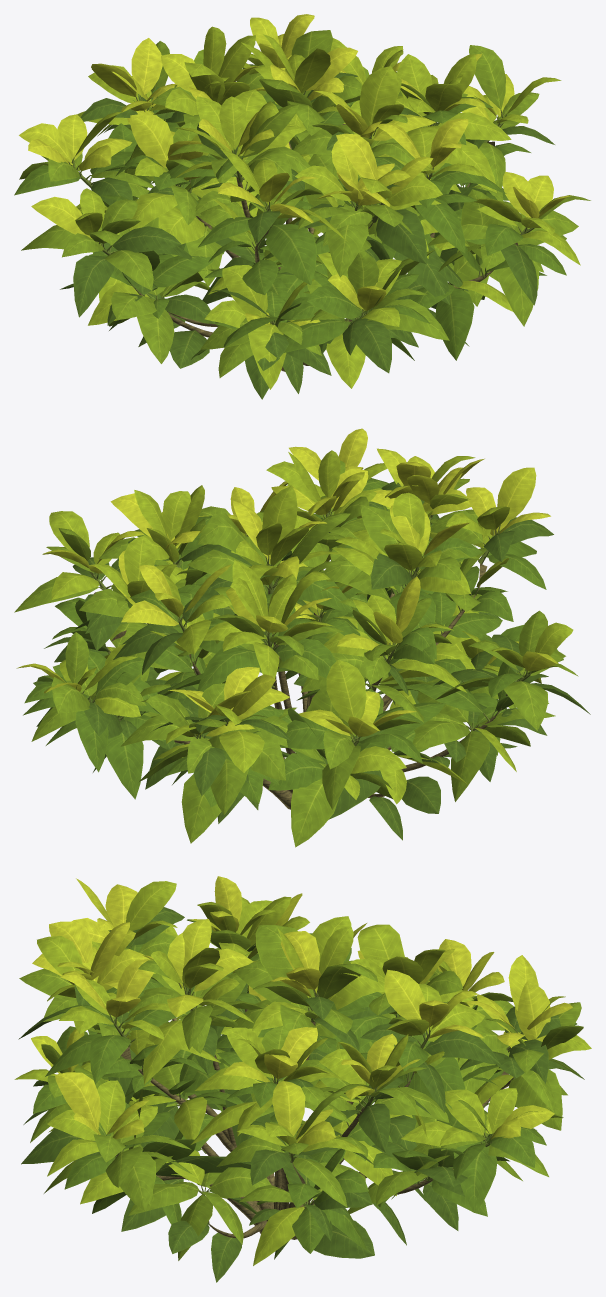
The model's file is humanities_courtyard_shrub.glb.
3 renders of one model, top to bottom at view 1: azimuth 30°, elevation 25°; view 2: azimuth 150°, elevation 25°; view 3: azimuth 270°, elevation 25°, orthographic.
Visible parts, largest first — view 1: courtyard_shrub; view 2: courtyard_shrub; view 3: courtyard_shrub.
Part boxes in pixels (<box>): courtyard_shrub: <box>14,14,590,399</box>; courtyard_shrub: <box>14,428,590,847</box>; courtyard_shrub: <box>14,876,591,1282</box>.
Bounding box in the file's own units: 1.74 × 1 × 1.66.
Materials: 3 (2 with a texture image).
